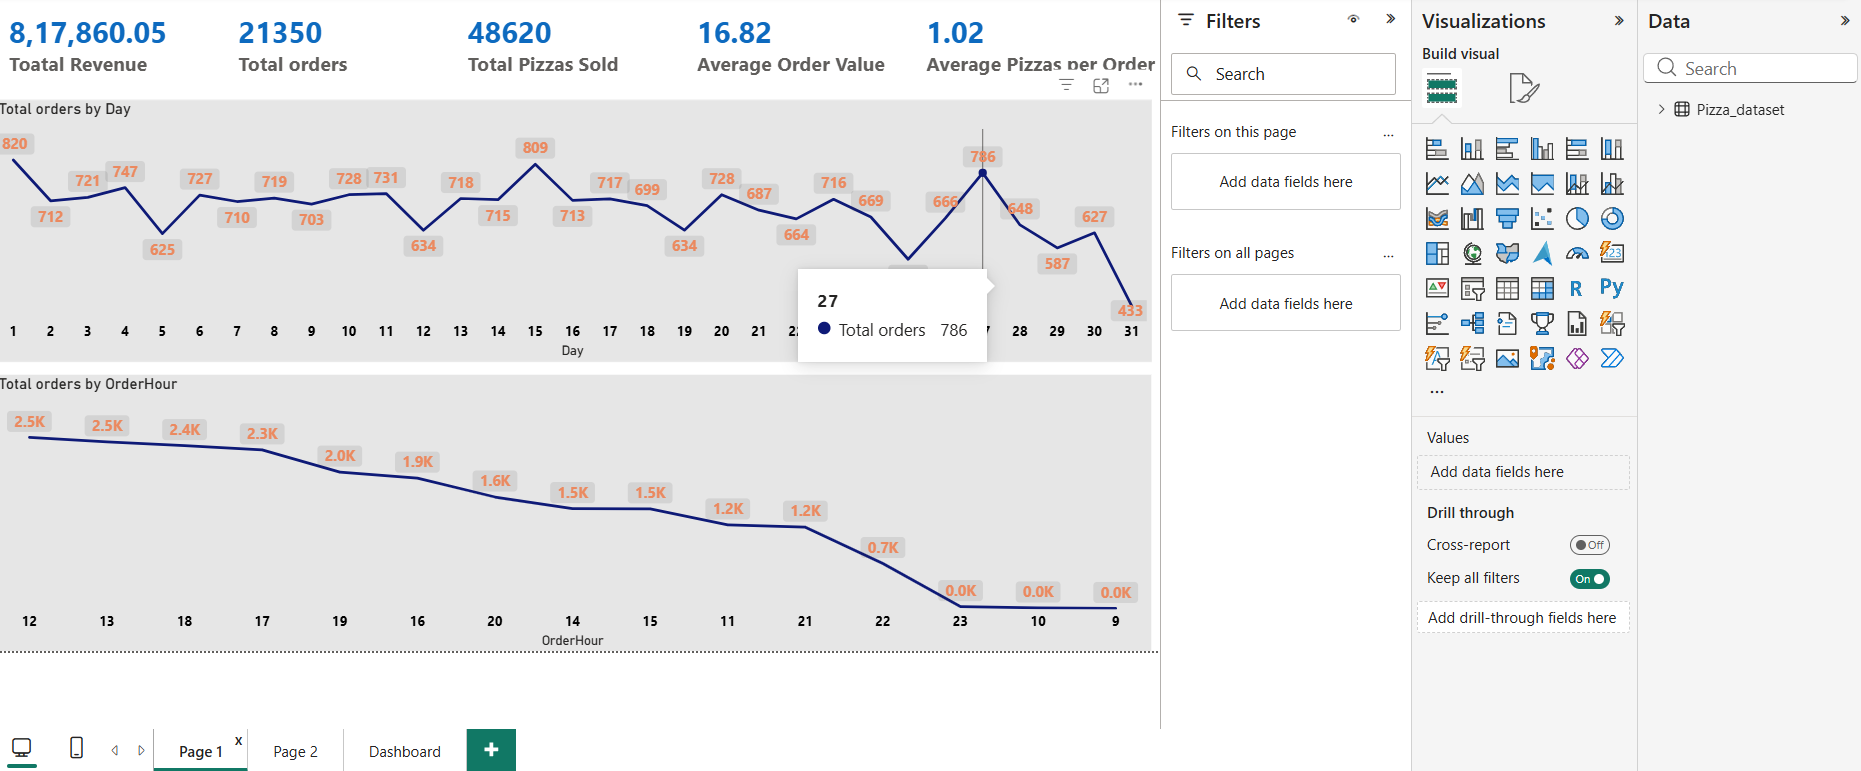

What the dashboard file says about the page in this screenshot:
{"tool":"powerbi","page":{"name":"Page 1","canvas":[1280,720],"ordinal":0},"visuals":[{"type":"multiRowCard","fields":{"Values":["Pizza_dataset.Toatal Revenue","Pizza_dataset.Total orders","Pizza_dataset.Total Pizzas Sold","Pizza_dataset.Average Order Value","Pizza_dataset.Average Pizzas per Order"]},"box":[0,12.3,1280.3,129],"z":0},{"type":"lineChart","fields":{"Category":["Pizza_dataset.order_date.Variation.Date Hierarchy.Day"],"Y":["Pizza_dataset.Total orders"]},"box":[0,113.9,1270.7,288.2],"z":1000},{"type":"lineChart","fields":{"Y":["Pizza_dataset.Total orders"],"Category":["Pizza_dataset.OrderHour"]},"box":[0,415.8,1270.7,304.6],"z":2000}]}

Visuals, with their boxes on the page's 1280x720 design canvas (x1, y1, x2, y2). These are canvas units, not pixel positions in the 1861x771 screenshot, which may show the page scaled, cropped or inside an application window:
multiRowCard - Pizza_dataset.Toatal Revenue x Pizza_dataset.Total orders: 0, 12, 1280, 141
lineChart - Pizza_dataset.order_date.Variation.Date Hierarchy.Day x Pizza_dataset.Total orders: 0, 114, 1271, 402
lineChart - Pizza_dataset.Total orders x Pizza_dataset.OrderHour: 0, 416, 1271, 720
